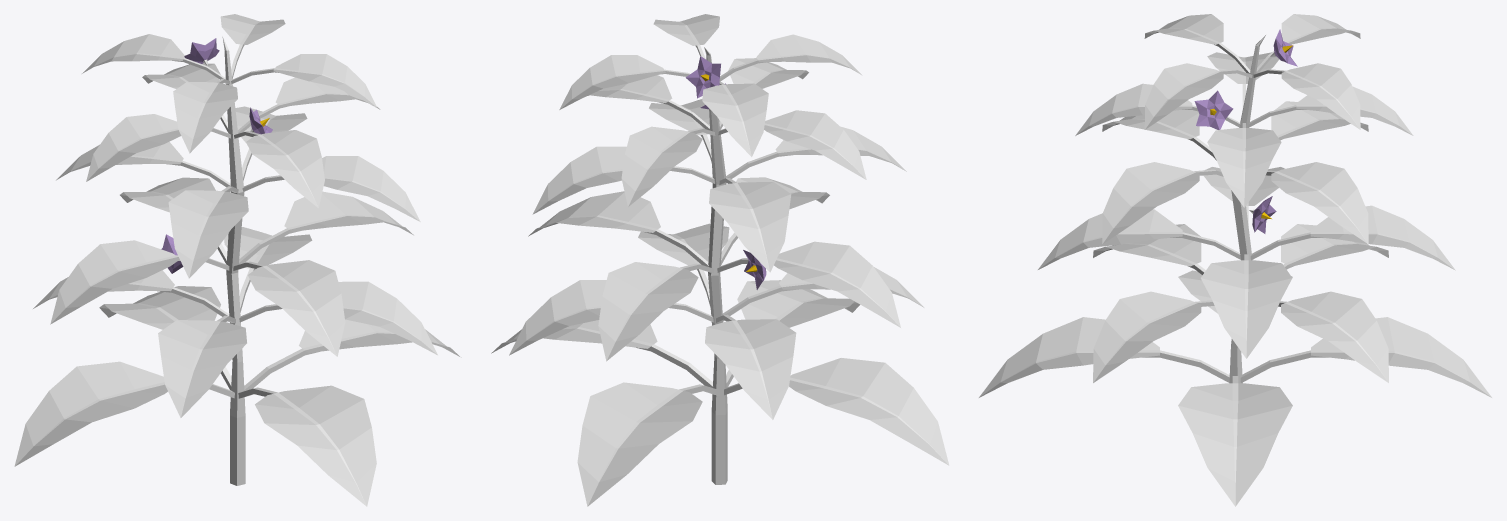
File: flowering.fbx
The picture shows the model from 3 angles, left to right: view 1: azimuth 30°, elevation 25°; view 2: azimuth 150°, elevation 25°; view 3: azimuth 270°, elevation 25°; orthographic projection. The views are drawn at different scales.
Visible parts, largest first — view 1: flowering; view 2: flowering; view 3: flowering.
Part boxes in pixels (x1,y1,x2,y2): flowering: [14, 14, 461, 506]; flowering: [491, 14, 949, 506]; flowering: [979, 14, 1491, 506].
Bounding box in the file's own units: 232 × 216 × 232.
